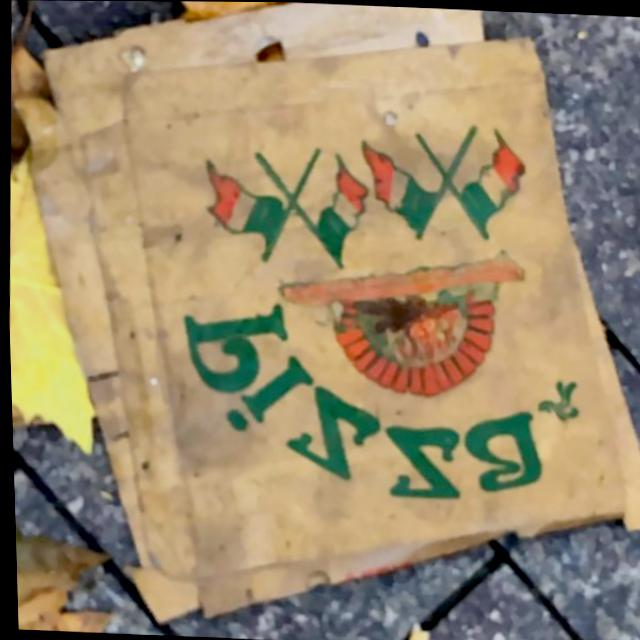Paper: (3, 0, 640, 640)
